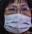with_mask: (2, 2, 32, 34)
